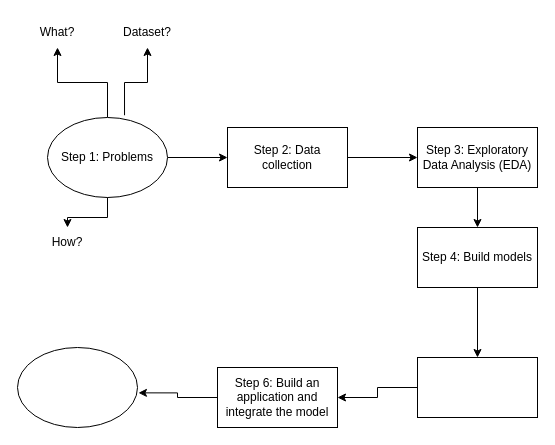
This 555x445 diagram has some shape labels left out. Each missing label, with the box of its shape:
Step 5: Model evaluation & optimization: (416, 356, 538, 418)
Step 7: Deployment: (16, 346, 138, 428)
